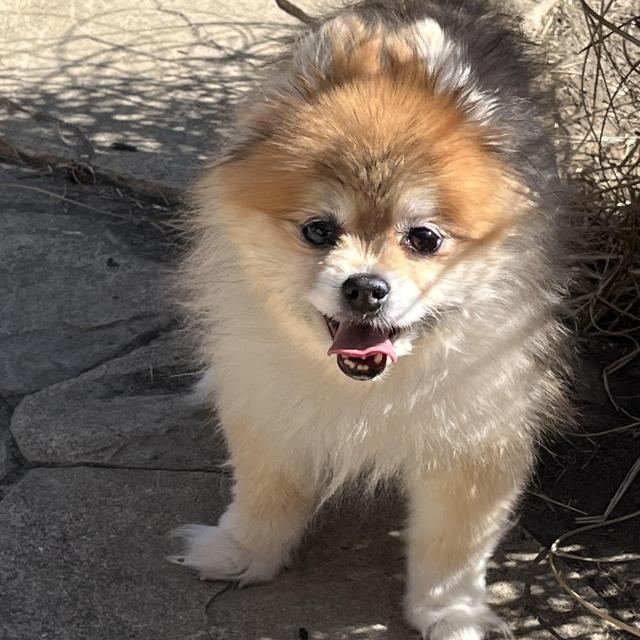pomeranian_dog: (208, 18, 557, 416)
